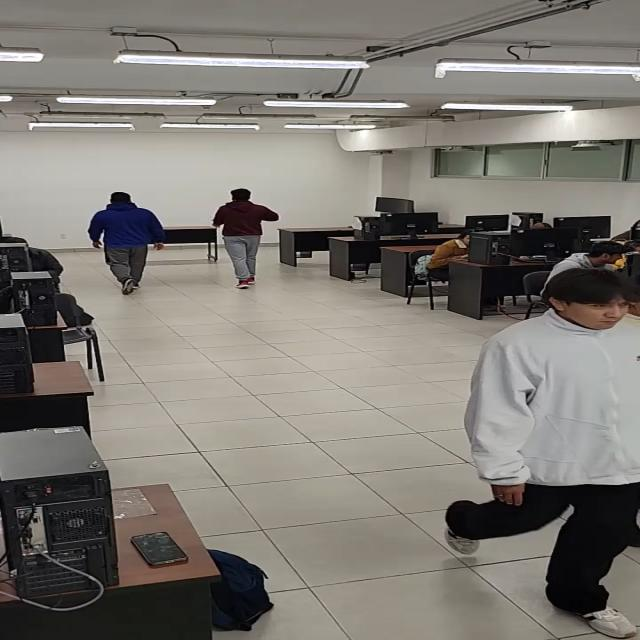Persona: (443, 265, 640, 638), (88, 192, 165, 296), (212, 189, 279, 289)
